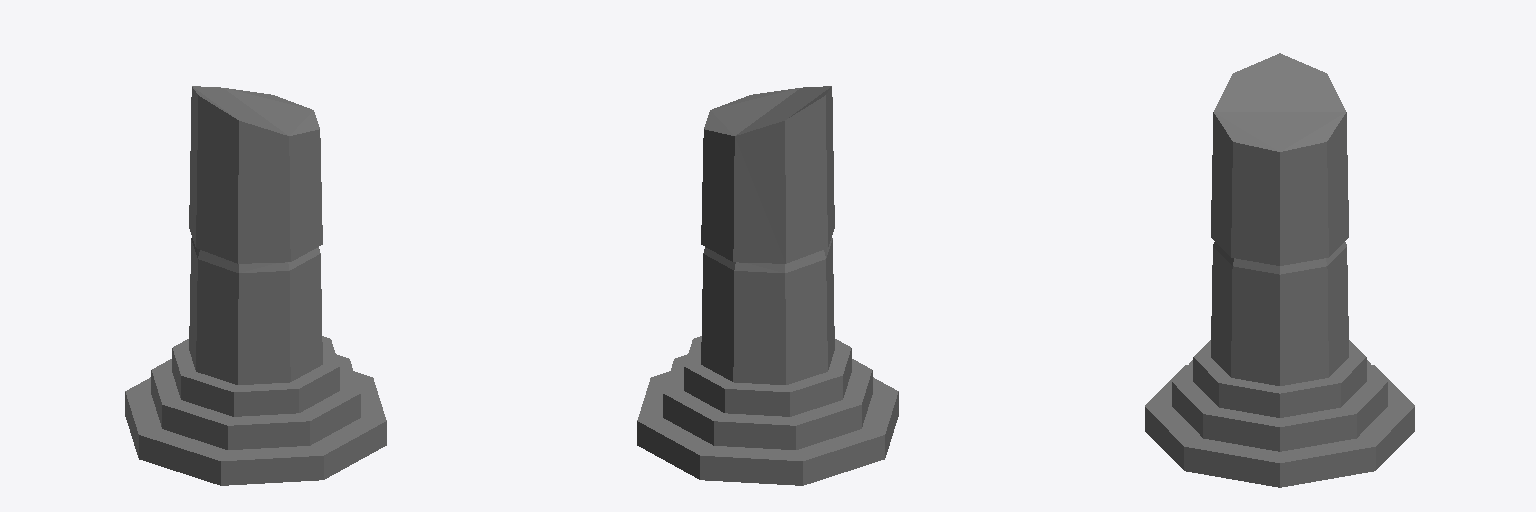
The model's file is ColumnBroken2.obj.
3 views of the same model, side by side, from view 1: azimuth 30°, elevation 25°; view 2: azimuth 150°, elevation 25°; view 3: azimuth 270°, elevation 25° (orthographic).
Parts seen in each view (by area): view 1: ColumnBroken2_Cylinder.007; view 2: ColumnBroken2_Cylinder.007; view 3: ColumnBroken2_Cylinder.007.
Part boxes in pixels (bbox=[...]): ColumnBroken2_Cylinder.007: bbox=[125, 86, 386, 485]; ColumnBroken2_Cylinder.007: bbox=[637, 86, 898, 485]; ColumnBroken2_Cylinder.007: bbox=[1145, 53, 1414, 487].
Size of the model in its own units: 2 by 2.85 by 2.